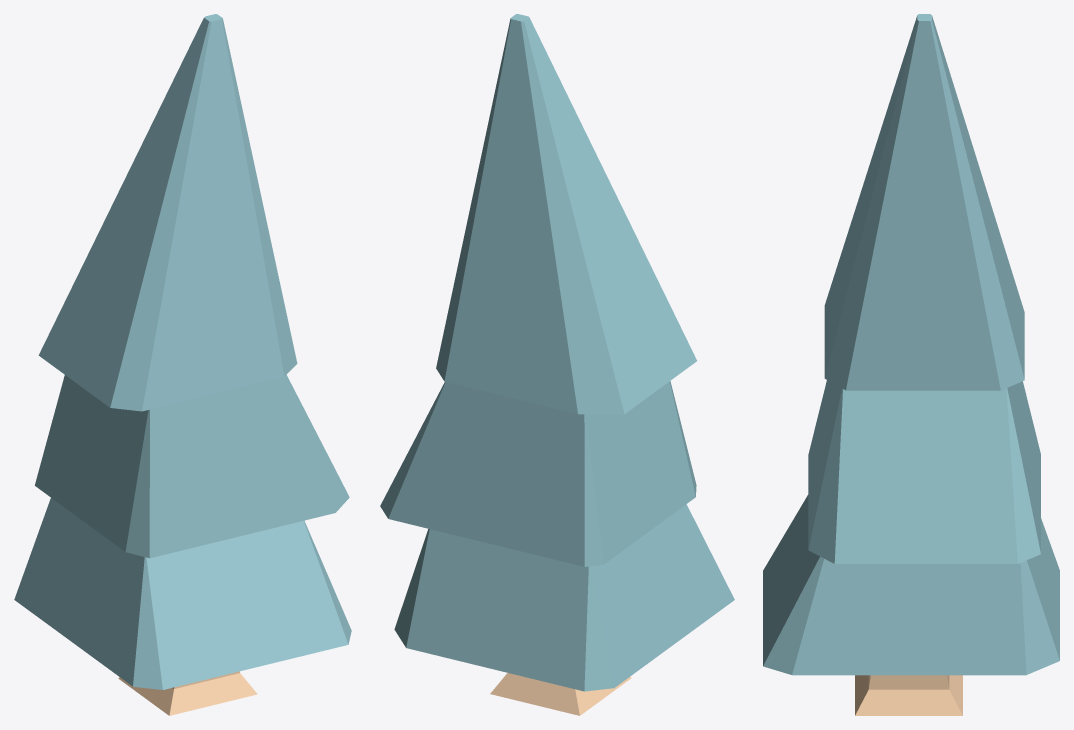
The model's file is tree_pineSmall_square3.glb.
3 views of the same model, side by side, from view 1: azimuth 30°, elevation 25°; view 2: azimuth 150°, elevation 25°; view 3: azimuth 270°, elevation 25° (orthographic). The views are drawn at different scales.
Visible parts, largest first — view 1: tree_pineSmall_square3; view 2: tree_pineSmall_square3; view 3: tree_pineSmall_square3.
Boxes of the visible parts, box(x1,y1,x2,y2) form: tree_pineSmall_square3: box(14, 14, 351, 715); tree_pineSmall_square3: box(380, 14, 734, 715); tree_pineSmall_square3: box(763, 14, 1059, 715).
Size of the model in its own units: 0.3863 by 1.01 by 0.392.
